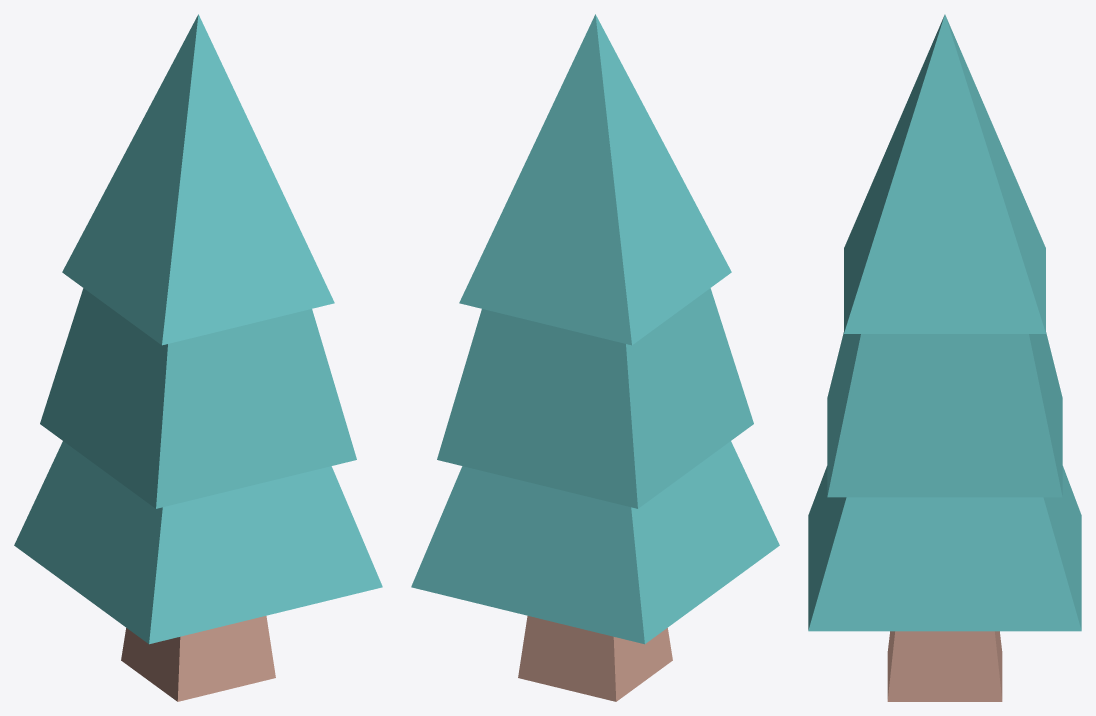
File: tree_pineSmallD.gltf
The picture shows the model from 3 angles, left to right: view 1: azimuth 30°, elevation 25°; view 2: azimuth 150°, elevation 25°; view 3: azimuth 270°, elevation 25°; orthographic projection.
Parts seen in each view (by area): view 1: tree_pineSmallD; view 2: tree_pineSmallD; view 3: tree_pineSmallD.
Part boxes in pixels (x1,y1,x2,y2): tree_pineSmallD: [14, 14, 382, 701]; tree_pineSmallD: [411, 14, 779, 701]; tree_pineSmallD: [808, 14, 1081, 701].
Size of the model in its own units: 0.3569 by 0.9556 by 0.3569.
